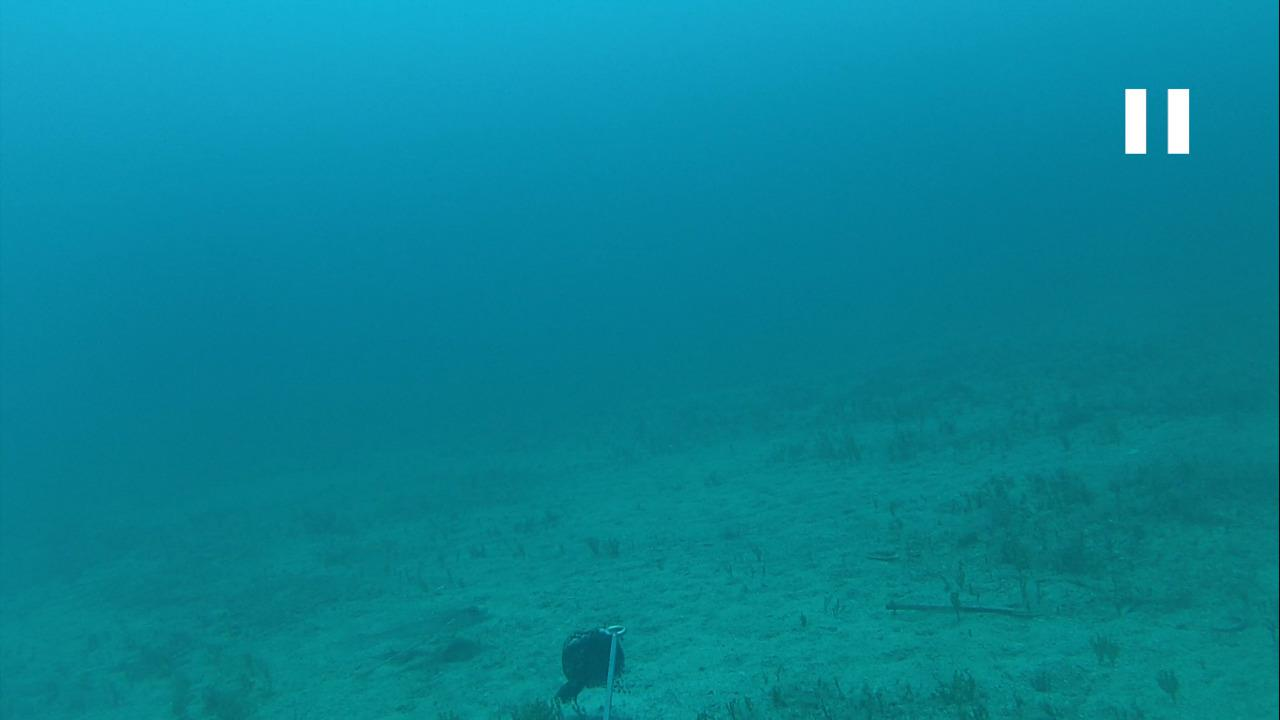dactylopterus: (313, 602, 491, 661)
